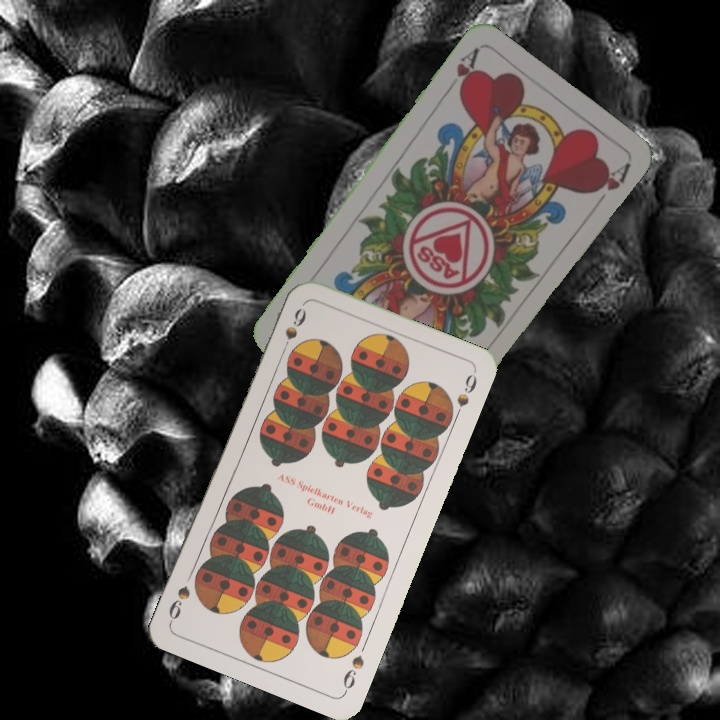HA: (442, 43, 482, 98)
S9: (277, 304, 309, 358), (339, 651, 367, 696)
